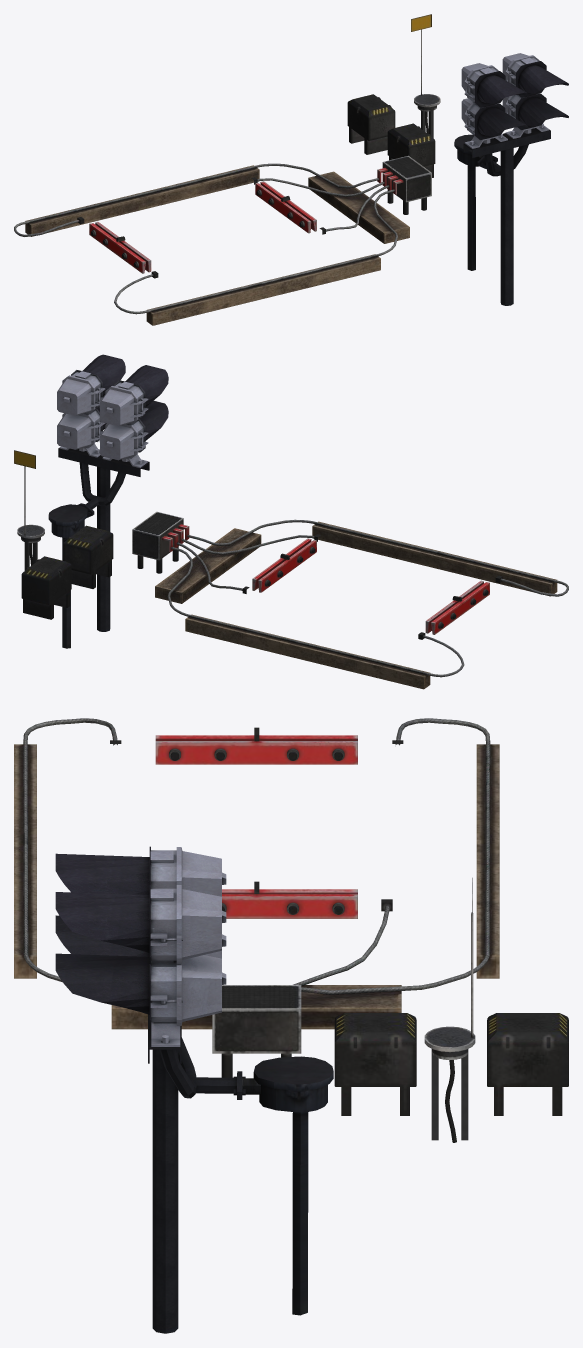
Rendered from RM_sig_KM1_2+2_exit.gltf.
3 renders of one model, top to bottom at view 1: azimuth 30°, elevation 25°; view 2: azimuth 150°, elevation 25°; view 3: azimuth 270°, elevation 25°, orthographic. The views are drawn at different scales.
Visible parts, largest first — view 1: Изостык, Object_004ввв, Object_005, Object_004; view 2: Изостык, Object_004ввв, Object_005, Object_004; view 3: Изостык, Object_004ввв, Object_005, Object_004.
Part boxes in pixels (<box>): Изостык: <box>14,14,440,325</box>; Object_004ввв: <box>461,53,568,148</box>; Object_005: <box>463,128,550,305</box>; Object_004: <box>454,134,483,270</box>; Изостык: <box>14,450,568,689</box>; Object_004ввв: <box>57,354,168,467</box>; Object_005: <box>58,448,149,631</box>; Object_004: <box>48,504,87,648</box>; Изостык: <box>14,718,568,1142</box>; Object_004ввв: <box>55,846,226,1046</box>; Object_005: <box>148,1015,245,1333</box>; Object_004: <box>242,1056,333,1315</box>.
Bounding box in the file's own units: 4.38 × 2.19 × 2.43.
6 materials, 4 textured.
